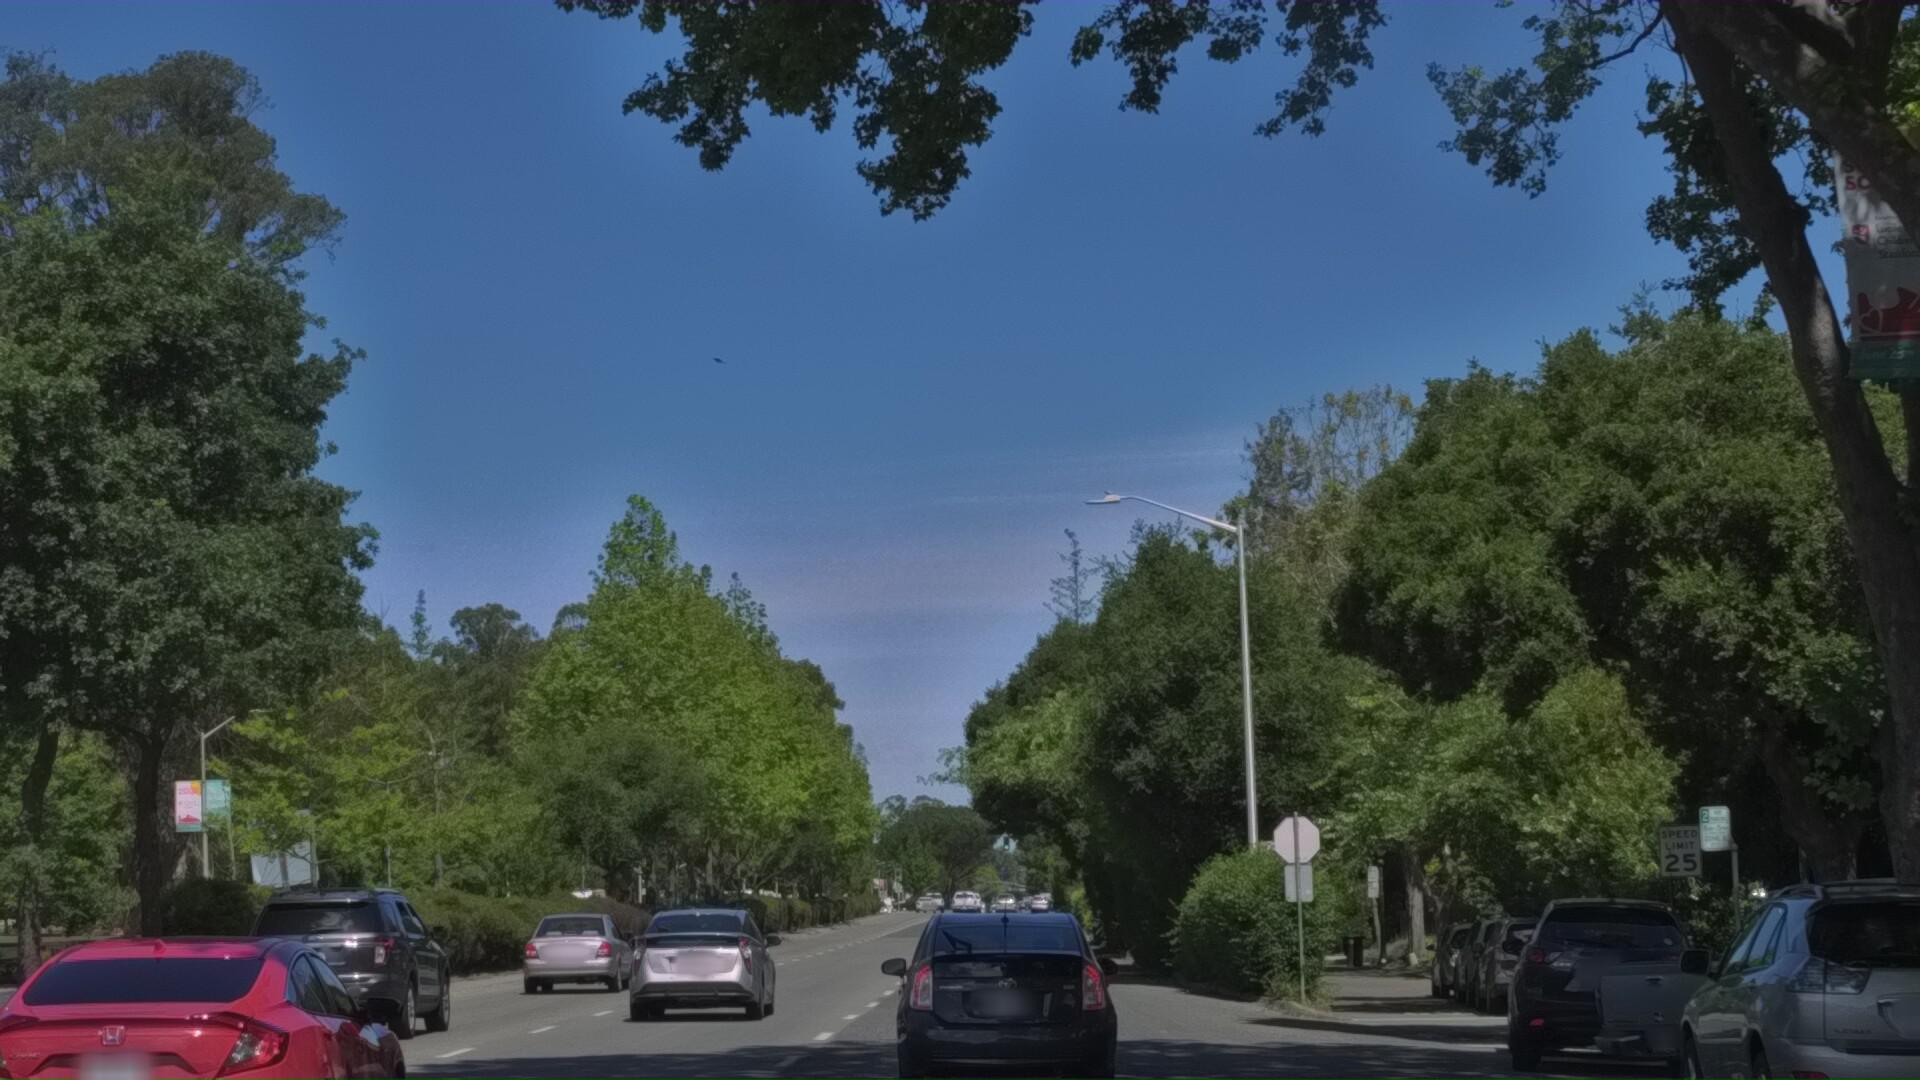car: (1575, 923, 1920, 1080), (0, 971, 431, 1080), (1648, 935, 1920, 1080), (247, 957, 473, 1080), (869, 982, 1149, 1080), (1505, 965, 1725, 1080), (621, 986, 793, 1080), (516, 993, 644, 1080), (1466, 1005, 1613, 1080), (1447, 1004, 1576, 1080), (1423, 1017, 1532, 1080)
